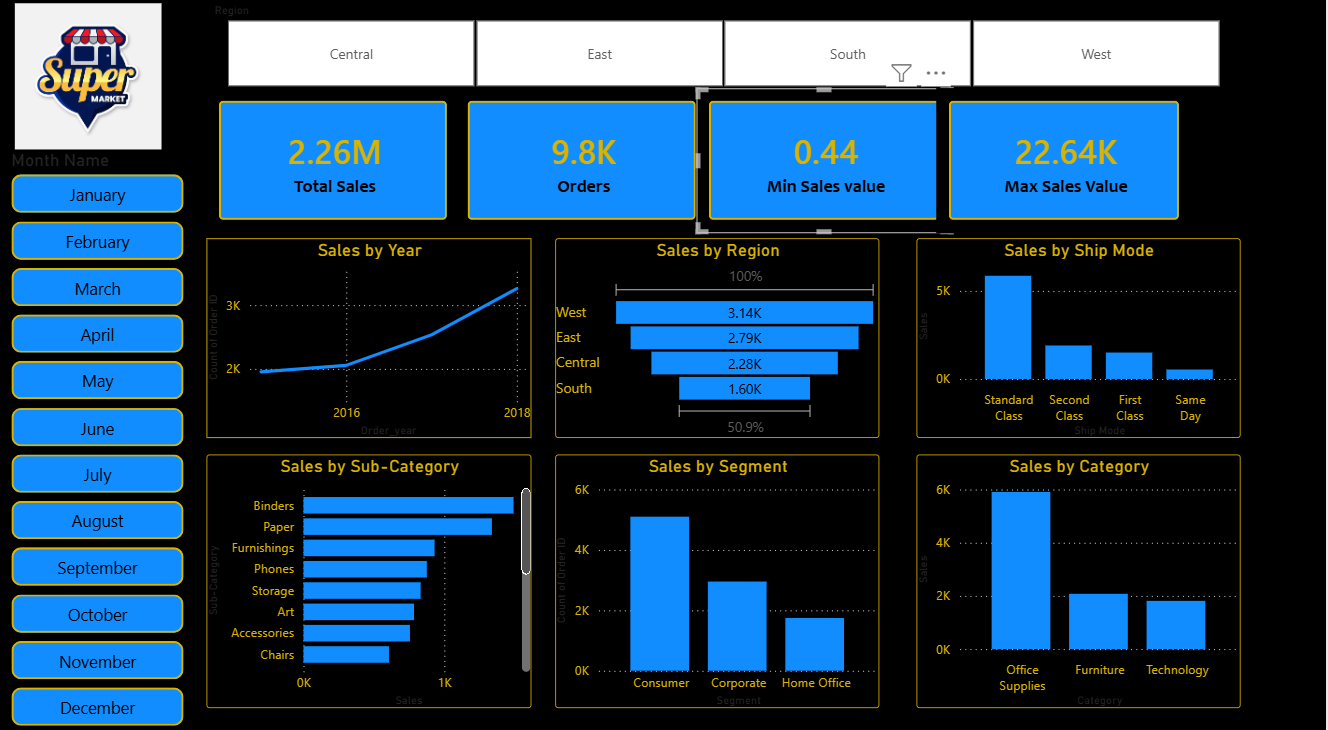

Layout of this report page (visuals, bound fields, positions):
{"tool":"powerbi","page":{"name":"Page 1","canvas":[1280,720],"ordinal":0},"visuals":[{"type":"image","box":[12.3,11,148.2,141.3],"z":0},{"type":"slicer","fields":{"Values":["train.Region"]},"box":[200.3,10.9,996.5,82],"z":1000},{"type":"cardVisual","fields":{"Data":["Sum(train.Sales)"]},"box":[200.3,92.9,244.9,139.9],"z":2000},{"type":"cardVisual","fields":{"Data":["CountNonNull(train.Sales)"]},"box":[440.4,92.9,244.9,139.9],"z":3000},{"type":"cardVisual","fields":{"Data":["Min(train.Sales)"]},"box":[673.2,92.9,246.1,139.9],"z":4000},{"type":"barChart","fields":{"Category":["train.Sub-Category"],"Y":["CountNonNull(train.Order ID)"]},"box":[200.3,446.4,313.7,244.9],"z":5000},{"type":"clusteredColumnChart","title":"Sales by Segment","fields":{"Category":["train.Segment"],"Y":["CountNonNull(train.Order ID)"]},"box":[536.9,446.4,313,244.9],"z":6000},{"type":"columnChart","fields":{"Category":["train.Ship Mode"],"Y":["CountNonNull(train.Order ID)"]},"box":[885.5,237.7,312.5,193],"z":7000},{"type":"advancedSlicerVisual","fields":{"Values":["train.Month Name"]},"box":[12.3,152.3,166,557.1],"z":8000},{"type":"lineChart","title":"Sales by Year","fields":{"Y":["CountNonNull(train.Order ID)"],"Category":["train.Order_year"]},"box":[200.3,237.7,313.7,193],"z":9000},{"type":"funnel","fields":{"Y":["CountNonNull(train.Order ID)"],"Category":["train.Region"]},"box":[536.9,237.7,313,193],"z":10000},{"type":"columnChart","fields":{"Category":["train.Category"],"Y":["CountNonNull(train.Order ID)"]},"box":[886,446,313,245],"z":11000},{"type":"cardVisual","fields":{"Data":["Max(train.Sales)"]},"box":[904.8,92.9,246.1,139.9],"z":12000}]}

Visuals, with their boxes in screenshot pixels (x1, y1, x2, y2), scaled from the page's 1280x720 canvas onto the 1328x730 screenshot:
image: box=[13, 11, 167, 154]
slicer - train.Region: box=[208, 11, 1242, 94]
cardVisual - Sum(train.Sales): box=[208, 94, 462, 236]
cardVisual - CountNonNull(train.Sales): box=[457, 94, 711, 236]
cardVisual - Min(train.Sales): box=[698, 94, 954, 236]
barChart - train.Sub-Category x CountNonNull(train.Order ID): box=[208, 453, 533, 701]
"Sales by Segment" clusteredColumnChart: box=[557, 453, 882, 701]
columnChart - train.Ship Mode x CountNonNull(train.Order ID): box=[919, 241, 1243, 437]
advancedSlicerVisual - train.Month Name: box=[13, 154, 185, 719]
"Sales by Year" lineChart: box=[208, 241, 533, 437]
funnel - CountNonNull(train.Order ID) x train.Region: box=[557, 241, 882, 437]
columnChart - train.Category x CountNonNull(train.Order ID): box=[919, 452, 1244, 701]
cardVisual - Max(train.Sales): box=[939, 94, 1194, 236]
